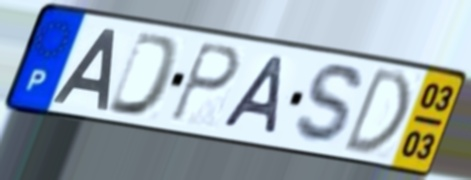A: (48, 25, 119, 113), (218, 54, 289, 139)
D: (103, 28, 185, 120), (338, 64, 412, 155)
P: (167, 38, 243, 124)
S: (291, 60, 367, 149)
